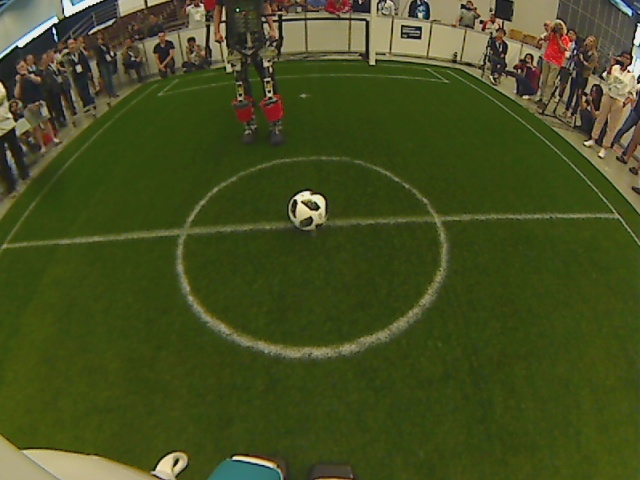ball: (284, 187, 332, 235)
